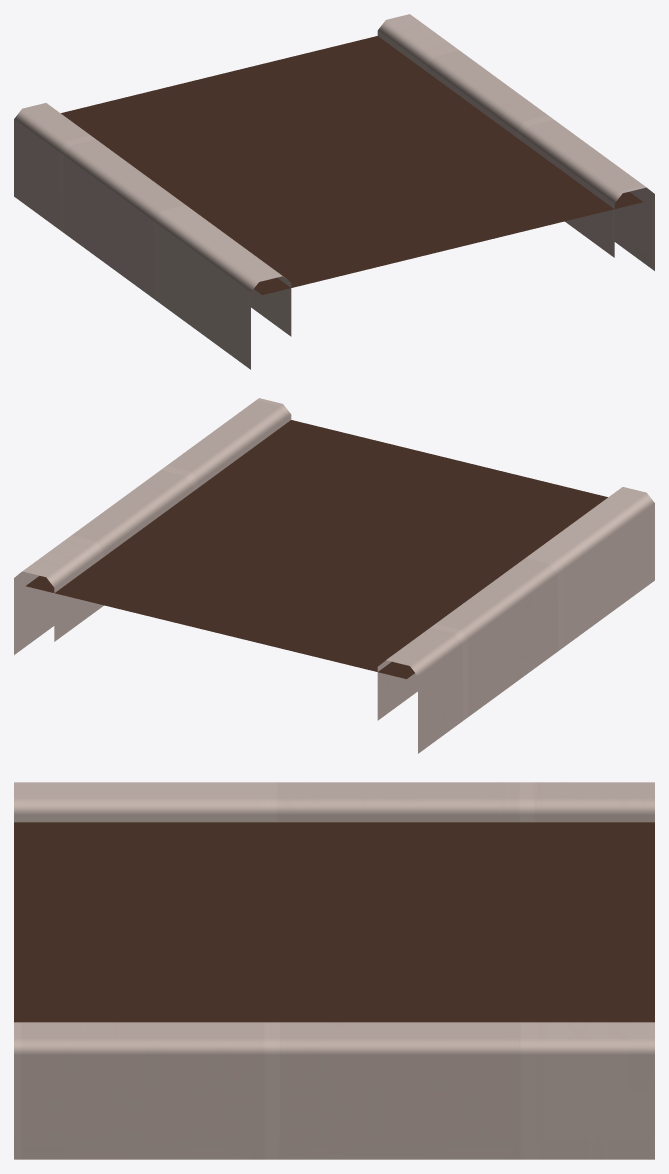
Rendered from GardenBed_Modular_2m_Mid.fbx.
3 renders of one model, top to bottom at view 1: azimuth 30°, elevation 25°; view 2: azimuth 150°, elevation 25°; view 3: azimuth 270°, elevation 25°, orthographic. The views are drawn at different scales.
Visible parts, largest first — view 1: GardenBed_Modular_2m_Mid; view 2: GardenBed_Modular_2m_Mid; view 3: GardenBed_Modular_2m_Mid.
Part boxes in pixels (x1,y1,x2,y2): GardenBed_Modular_2m_Mid: (14, 14, 654, 369); GardenBed_Modular_2m_Mid: (14, 398, 654, 753); GardenBed_Modular_2m_Mid: (14, 782, 654, 1159).
Bounding box in the file's own units: 197 × 40 × 200.
